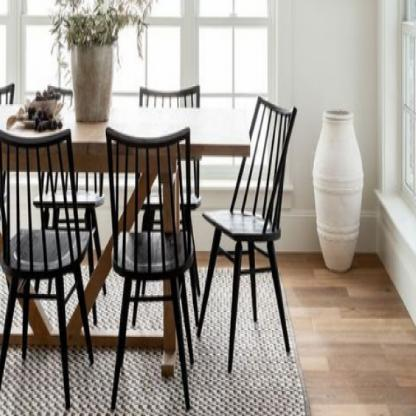chair: (195, 97, 307, 385), (101, 122, 192, 416), (0, 124, 86, 416)
table: (0, 104, 252, 377)
